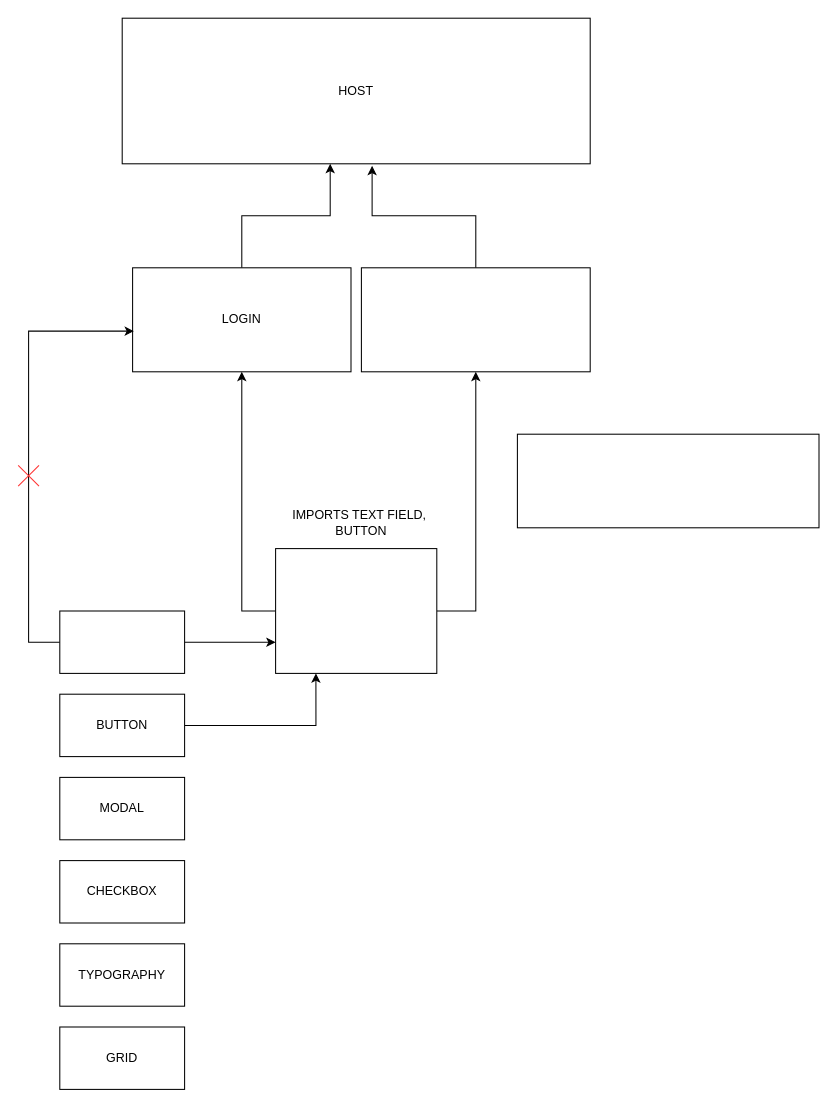
Image size: 837x1108. Some labels were removed from this diagram. Each missing label, with the box of its shape:
CORE: (275, 548, 437, 673)
DASHBOARD: (360, 267, 590, 372)
STATE: (516, 433, 819, 528)
TEXT FIELD: (59, 610, 185, 673)
